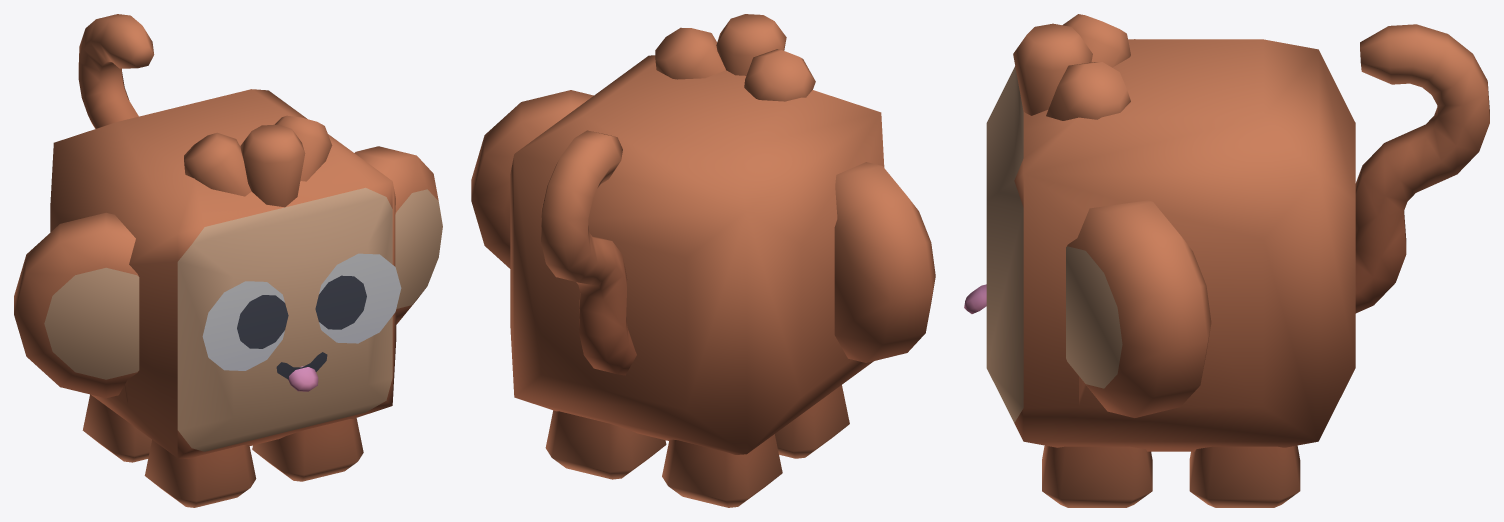
File: monkey.glb
3 views of the same model, side by side, from view 1: azimuth 30°, elevation 25°; view 2: azimuth 150°, elevation 25°; view 3: azimuth 270°, elevation 25° (orthographic). The views are drawn at different scales.
Parts seen in each view (by area): view 1: body, tail, leg-front-right, leg-front-left, leg-back-right; view 2: body, tail, leg-back-right, leg-back-left, leg-front-right; view 3: body, tail, leg-back-left, leg-front-left.
Boxes of the visible parts, x1,y1,x2,y2 form: body: (14,89,442,458); tail: (78,14,154,128); leg-front-right: (144,440,256,507); leg-front-left: (252,418,363,481); leg-back-right: (82,394,151,462); body: (471,14,935,454); tail: (541,130,636,375); leg-back-right: (662,434,782,507); leg-back-left: (545,410,666,479); leg-front-right: (775,385,849,458); body: (964,14,1355,451); tail: (1355,24,1489,313); leg-back-left: (1189,445,1300,507); leg-front-left: (1042,445,1152,507).
Size of the model in its own units: 1.98 by 1.61 by 1.78.
